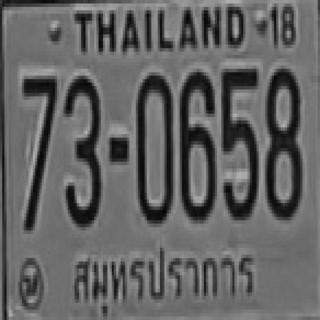N00: (136, 72, 171, 220)
N03: (62, 74, 100, 226)
N05: (219, 65, 256, 217)
N06: (178, 70, 215, 218)
N07: (21, 74, 56, 229), (21, 72, 56, 213), (21, 72, 56, 175)
N08: (263, 65, 300, 217)
P57: (61, 240, 258, 320)
